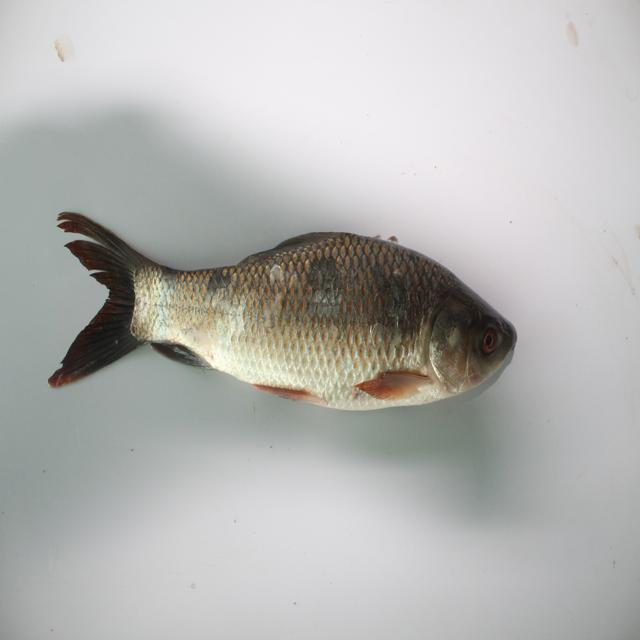Rohu: (45, 193, 526, 425)
